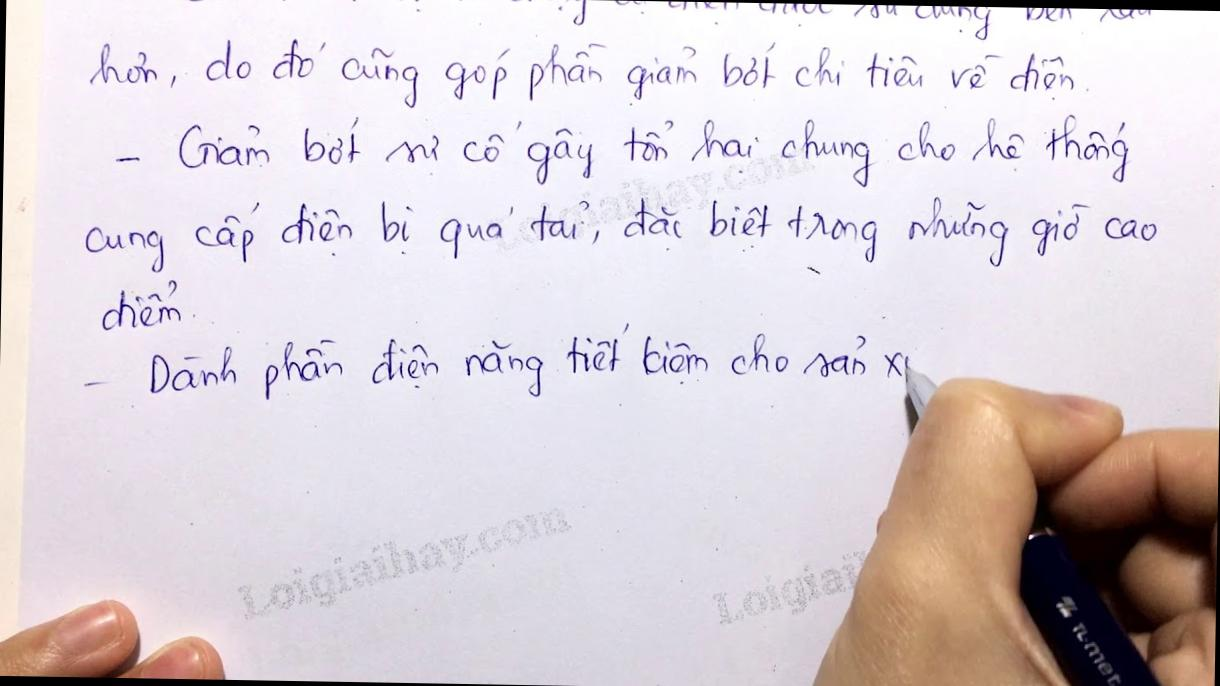text: (78, 177, 1160, 296), (108, 94, 1136, 198), (84, 31, 1078, 128), (82, 310, 918, 419), (232, 494, 574, 634), (122, 0, 1155, 38), (708, 540, 868, 636), (95, 275, 198, 338)
